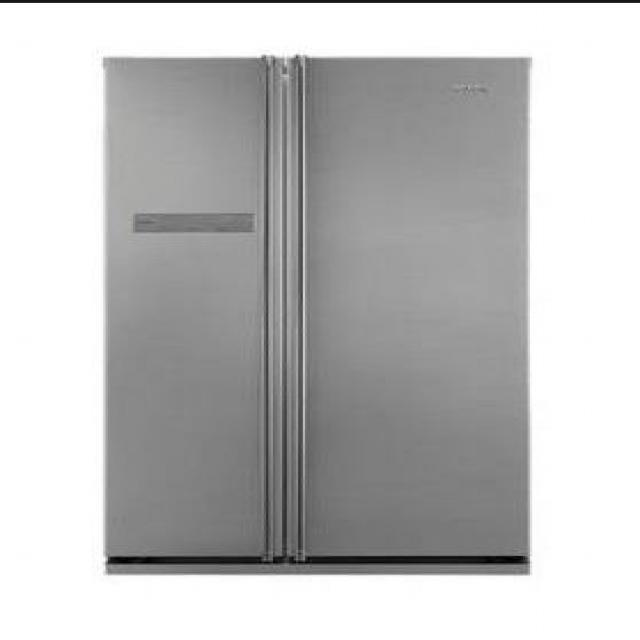refrigerator: (102, 56, 532, 573)
